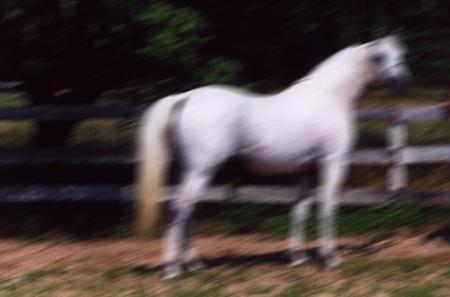horse: (133, 27, 410, 280)
